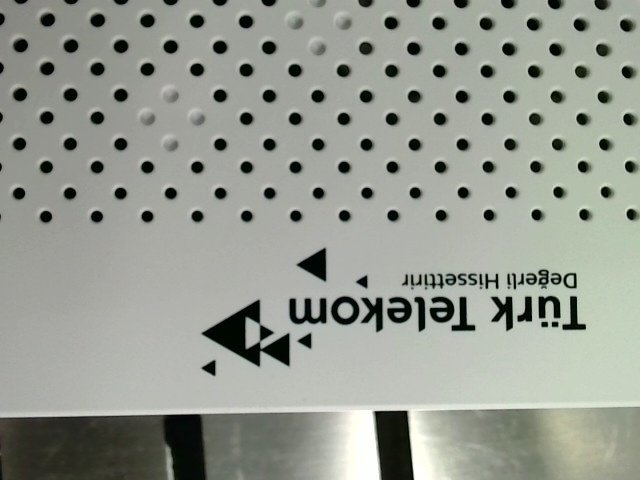AQ_TURKTelekom: (183, 243, 587, 390)
